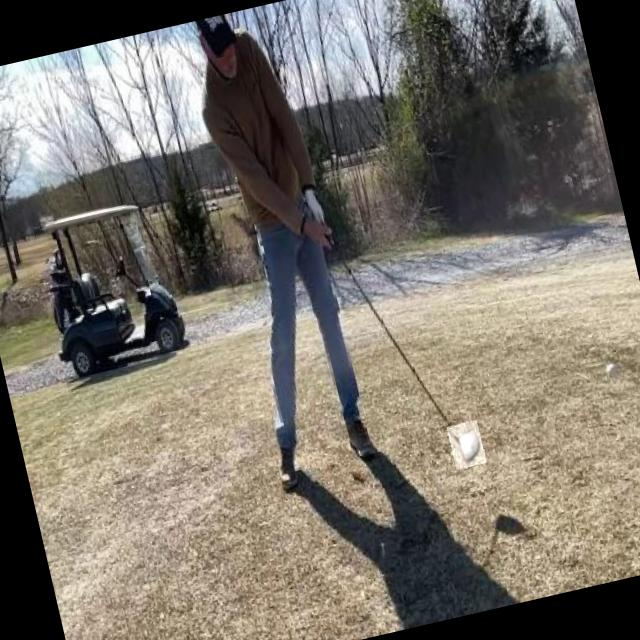club head: (446, 420, 486, 470)
